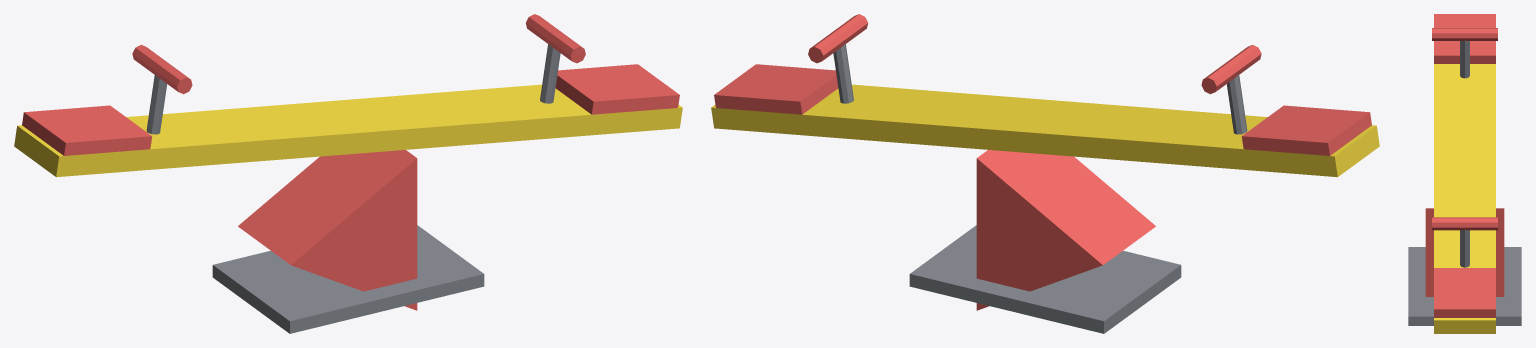
File: th3_wippe.glb
3 renders of one model, left to right at view 1: azimuth 30°, elevation 25°; view 2: azimuth 150°, elevation 25°; view 3: azimuth 270°, elevation 25°, orthographic. The views are drawn at different scales.
Visible parts, largest first — view 1: Wippbrett, Mittelbock, Bodenplatte; view 2: Wippbrett, Mittelbock, Bodenplatte; view 3: Wippbrett, Bodenplatte, Mittelbock.
Boxes of the visible parts, <box> form: Wippbrett: <box>14,14,682,177</box>; Mittelbock: <box>238,150,417,310</box>; Bodenplatte: <box>212,225,484,333</box>; Wippbrett: <box>711,14,1379,177</box>; Mittelbock: <box>976,150,1155,310</box>; Bodenplatte: <box>909,225,1181,333</box>; Wippbrett: <box>1432,14,1497,333</box>; Bodenplatte: <box>1408,247,1521,325</box>; Mittelbock: <box>1425,208,1504,296</box>.
Bounding box in the file's own units: 2.58 × 1.12 × 0.55.
